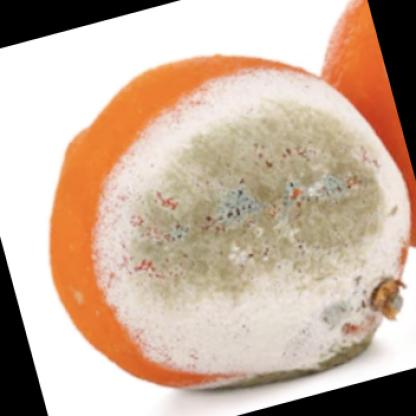rotten: (53, 59, 411, 389)
